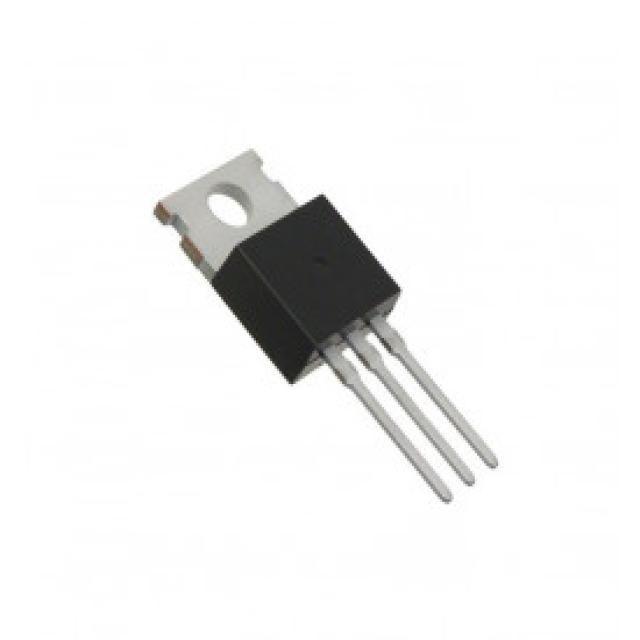Transistor: (154, 150, 500, 503)
